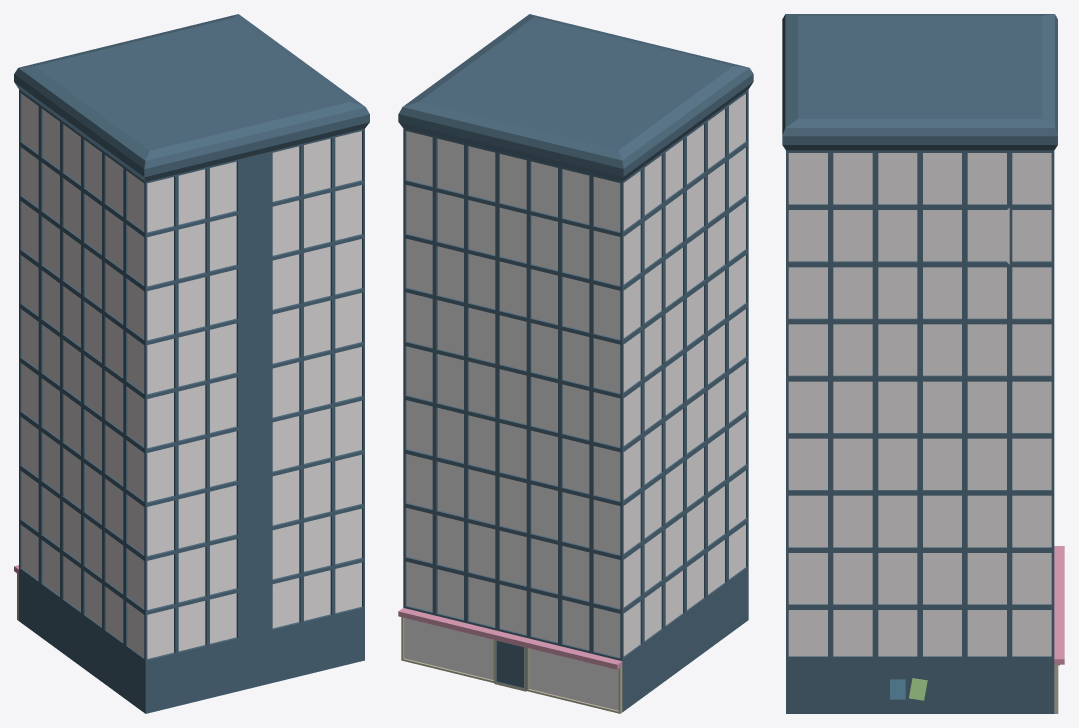
The model's file is house 1.fbx.
The picture shows the model from 3 angles, left to right: view 1: azimuth 30°, elevation 25°; view 2: azimuth 150°, elevation 25°; view 3: azimuth 270°, elevation 25°; orthographic projection. The views are drawn at different scales.
Visible parts, largest first — view 1: House 1; view 2: House 1; view 3: House 1.
Boxes of the visible parts, x1,y1,x2,y2 form: House 1: (14, 14, 369, 713); House 1: (398, 14, 753, 713); House 1: (782, 14, 1064, 713).
Size of the model in its own units: 206 by 485 by 211.
